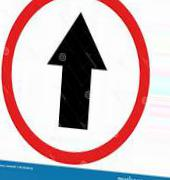forward: (3, 1, 150, 165)
